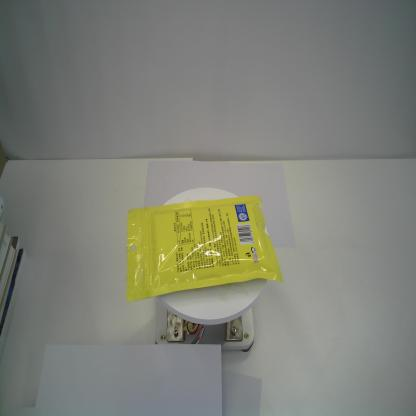Dried Fruit: (126, 195, 284, 302)
